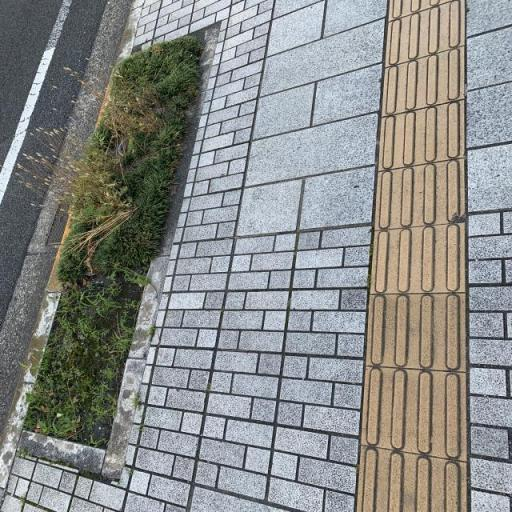line: (361, 367, 468, 462), (366, 293, 471, 373), (371, 221, 470, 293), (373, 157, 467, 231), (378, 99, 467, 171)
